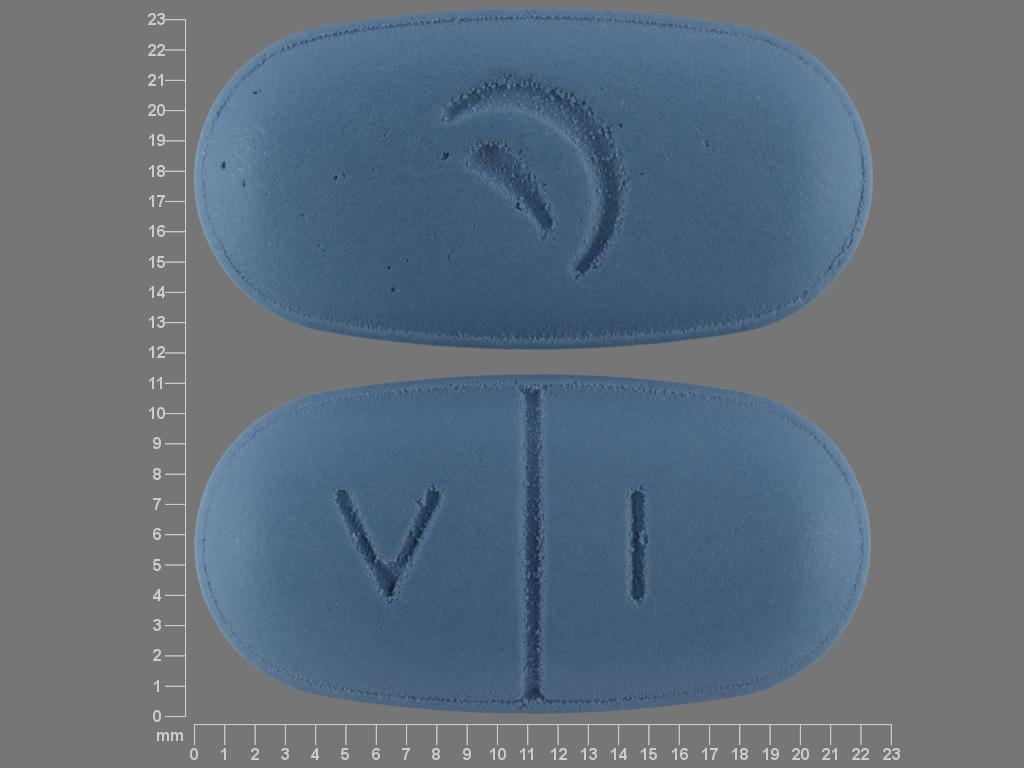Pill: (186, 3, 881, 354), (189, 369, 878, 721)
